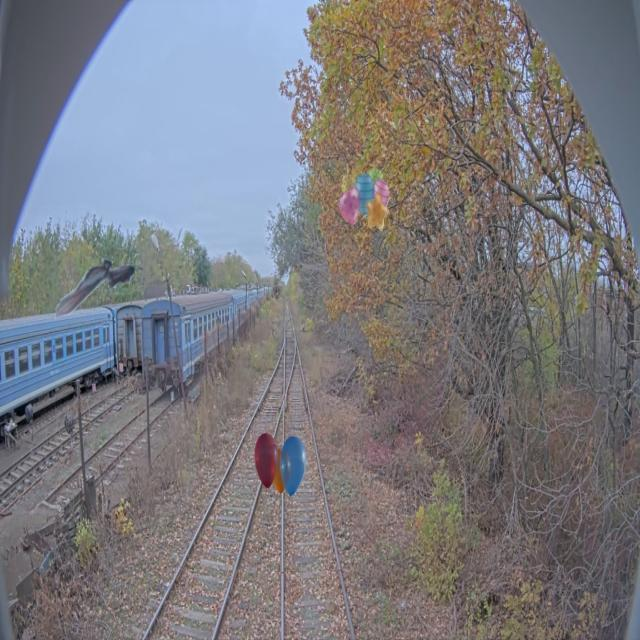balloon: (254, 432, 306, 496), (339, 167, 390, 231)
floating object: (54, 256, 135, 321)
